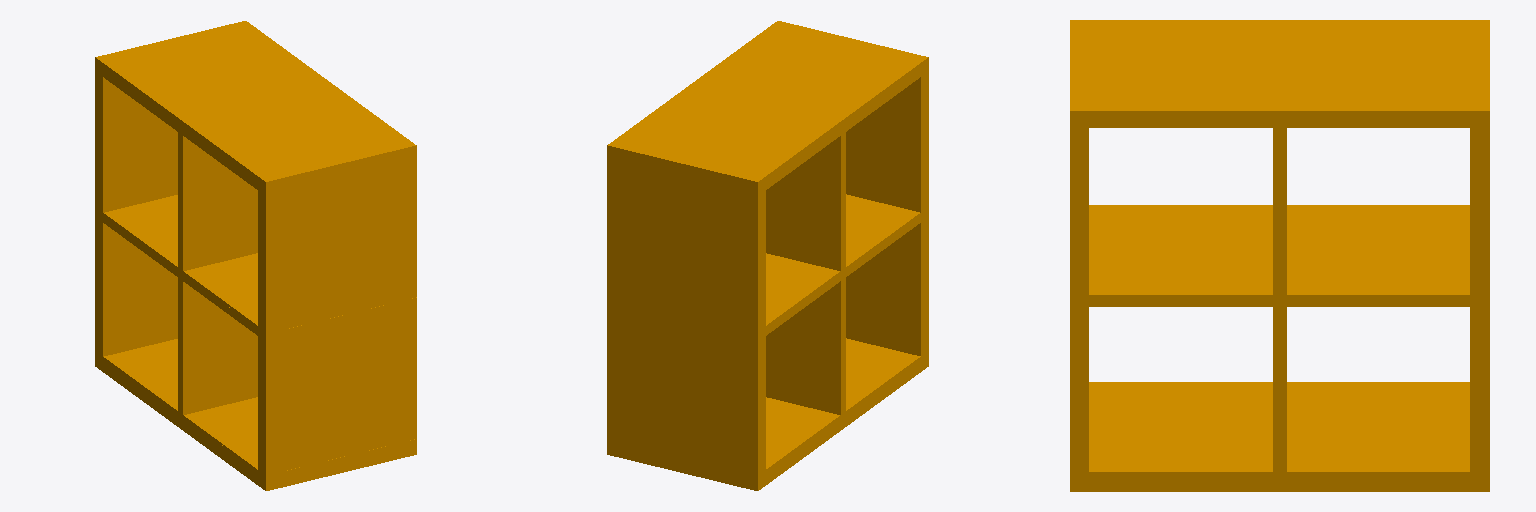
The robot description file, URDF, robot "shelf":
<?xml version="1.0"?>
<!--
This is a model of Ikea Kallax 2
https://www.ikea.com/us/en/p/kallax-shelf-unit-black-brown-60275812/#content
-->
<robot name="shelf">
  <link name="shelf">
    <visual>
      <origin xyz="-0.195 -0.382 0" rpy="1.5708 0 1.5708"/>
      <geometry>
        <mesh filename="meshes/shelf.stl" scale="1e-3 1e-3 1e-3"/>
      </geometry>
    </visual>
    <!-- bottom wall -->
    <visual name="bottom_vis">
      <origin xyz="0 0 0.0195"/>
      <geometry>
        <box size="0.39 0.765 0.039"/>
      </geometry>
    </visual>
    <collision name="bottom_col">
      <origin xyz="0 0 0.0195"/>
      <geometry>
        <box size="0.39 0.765 0.039"/>
      </geometry>
    </collision>
    <!-- left wall -->
    <visual name="left_vis">
      <origin xyz="0 0.3645 0.3825"/>
      <geometry>
        <box size="0.39 0.036 0.765"/>
      </geometry>
    </visual>
    <collision name="left_col">
      <origin xyz="0 0.3645 0.3825"/>
      <geometry>
        <box size="0.39 0.036 0.765"/>
      </geometry>
    </collision>
    <!-- vertical center wall -->
    <visual name="center_v_vis">
      <origin xyz="0 0 0.3825"/>
      <geometry>
        <box size="0.39 0.016 0.765"/>
      </geometry>
    </visual>
    <collision name="center_v_col">
      <origin xyz="0 0 0.3825"/>
      <geometry>
        <box size="0.39 0.016 0.765"/>
      </geometry>
    </collision>
    <!-- horizontal center wall -->
    <visual name="center_h_vis">
      <origin xyz="0 0 0.381"/>
      <geometry>
        <box size="0.39 0.765 0.016"/>
      </geometry>
    </visual>
    <collision name="center_h_col">
      <origin xyz="0 0 0.381"/>
      <geometry>
        <box size="0.39 0.765 0.016"/>
      </geometry>
    </collision>

  </link>
</robot>

--- Facts derived from the render (not from the file) ---
The picture shows the robot from 3 angles, left to right: view 1: azimuth 30°, elevation 25°; view 2: azimuth 150°, elevation 25°; view 3: azimuth 270°, elevation 25°; orthographic projection.
Model shelf with 1 links and 0 joints (none), rooted at shelf, posed all joints at 0.
Visible links, largest first — view 1: shelf; view 2: shelf; view 3: shelf.
Link boxes in pixels (x1,y1,x2,y2): shelf: (95, 21, 416, 490); shelf: (607, 21, 928, 490); shelf: (1070, 20, 1489, 491).
Size in the robot's own frame: 0.39 by 0.7655 by 0.765 metres.
Meshes: 1 distinct files referenced, 1 mesh visuals loaded (1 binary STL).
